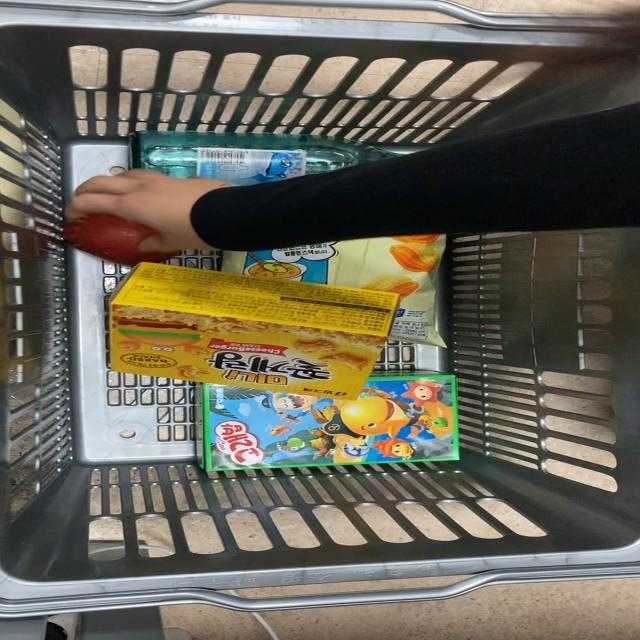ggobukchip: (238, 242, 474, 294)
goraebob: (194, 377, 469, 465)
jinro: (116, 128, 382, 176)
minicrab: (93, 261, 374, 386)
plum: (57, 196, 176, 268)
